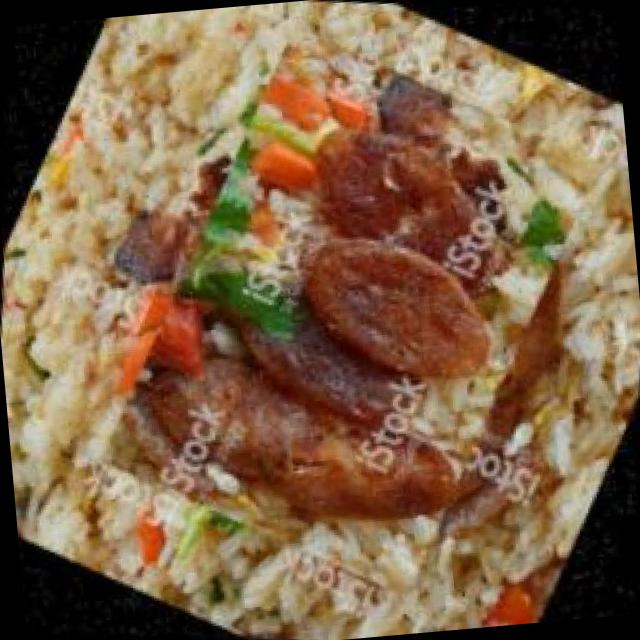chinese_sausage: (29, 0, 640, 629)
